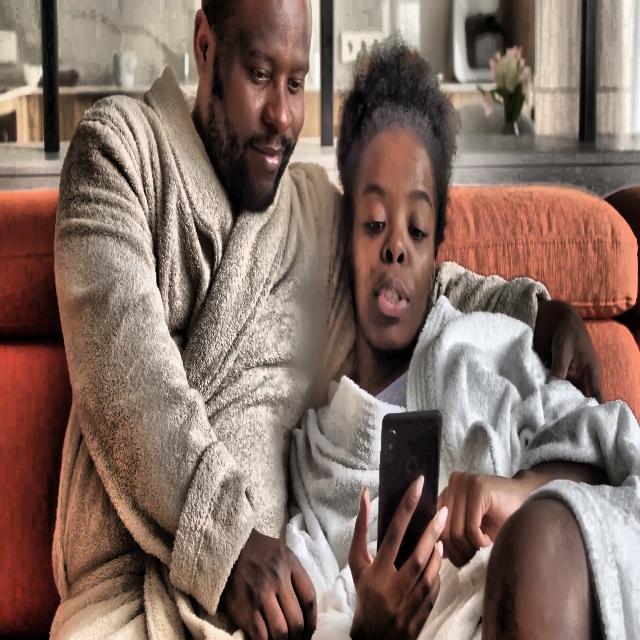Phone: (376, 406, 443, 580)
